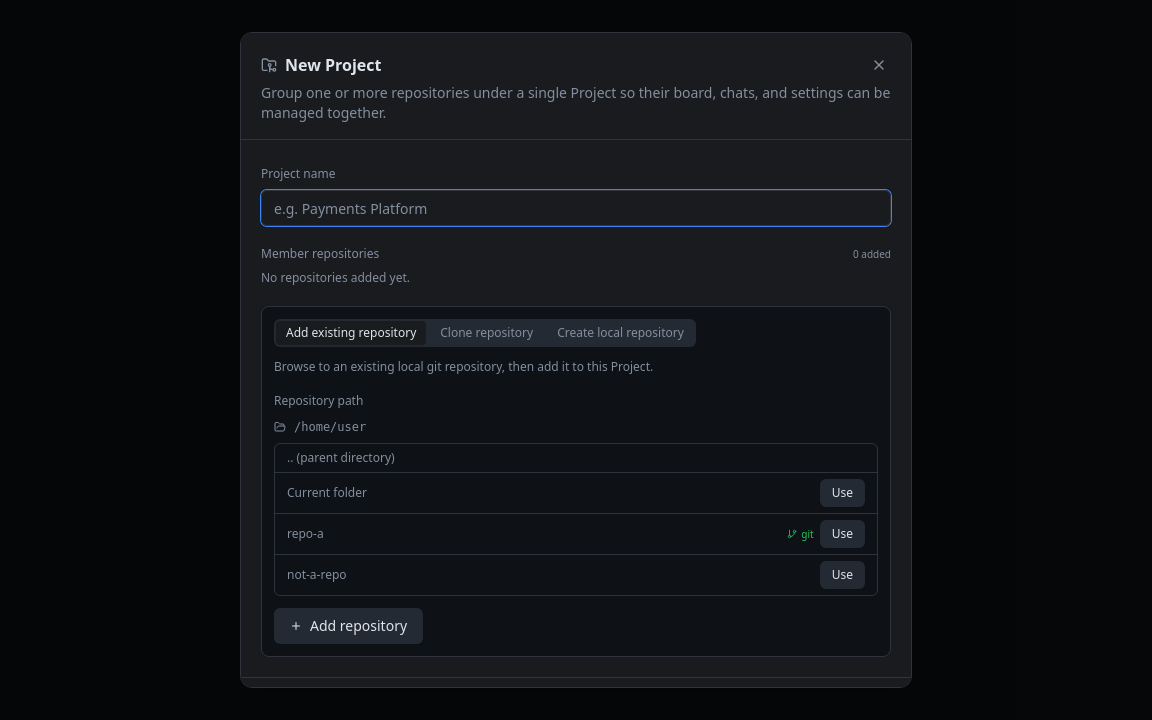
Test: CreateProjectDialog › blocks creation with an error when no name is entered
Step 1. Click the 2nd button "Use" → (842, 534), box [820, 520, 865, 548]
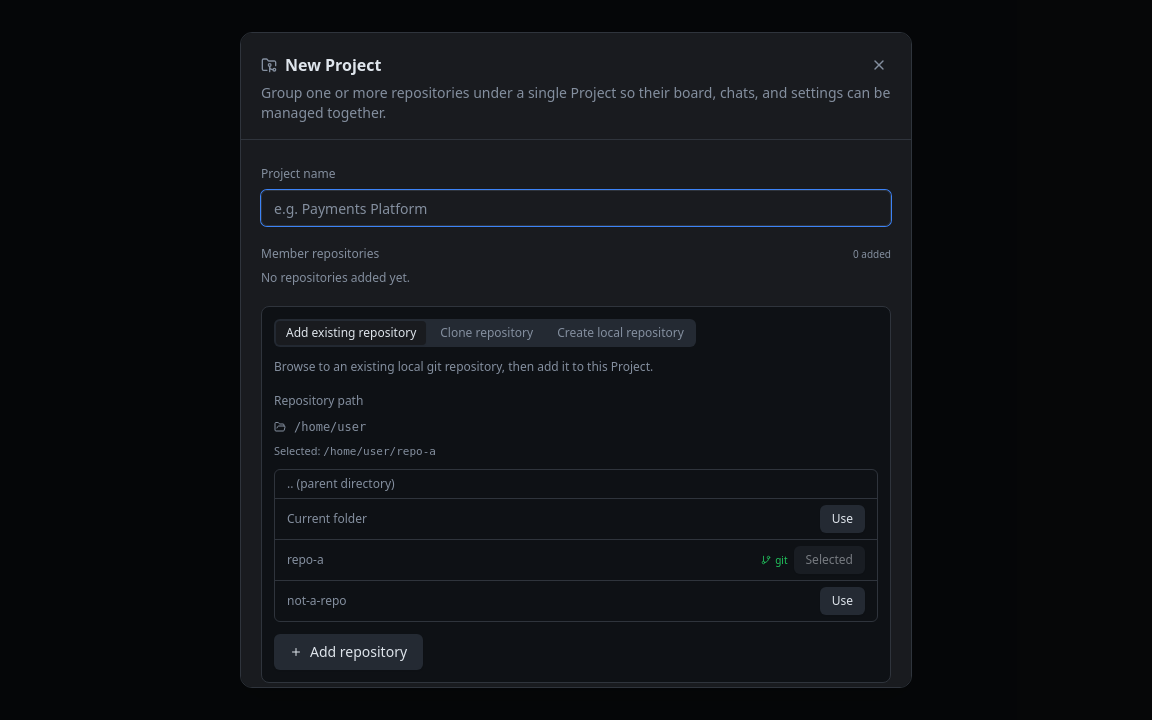
Step 2. Click the button "Add repository" → (349, 652), box [274, 634, 423, 670]
(page scrolled)
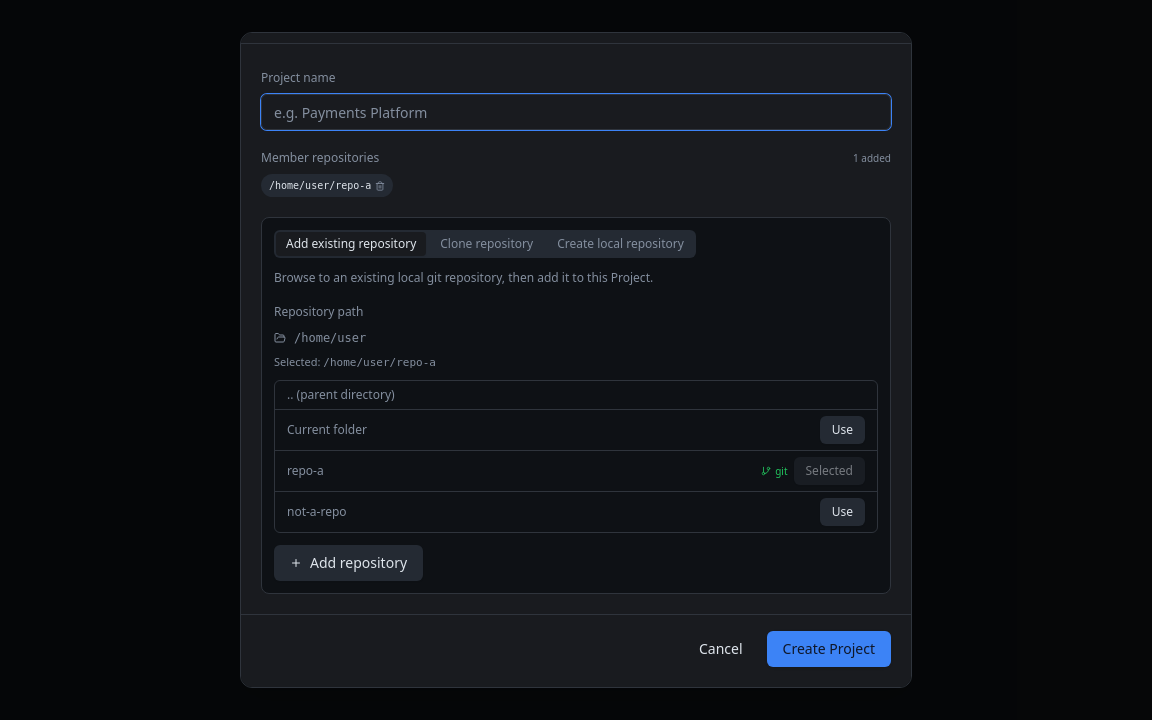
Step 3. Click the button "Create Project" → (829, 648), box [767, 630, 891, 666]
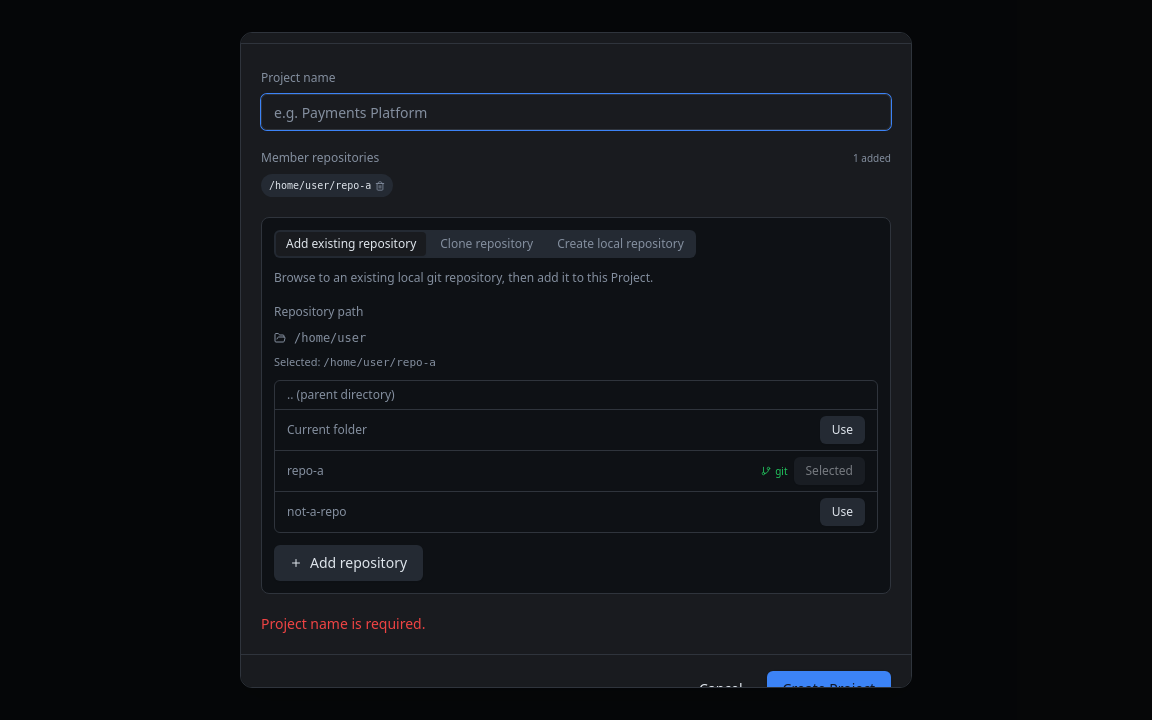
Check: the text "Project name is required." is shown, box [261, 614, 426, 632]
